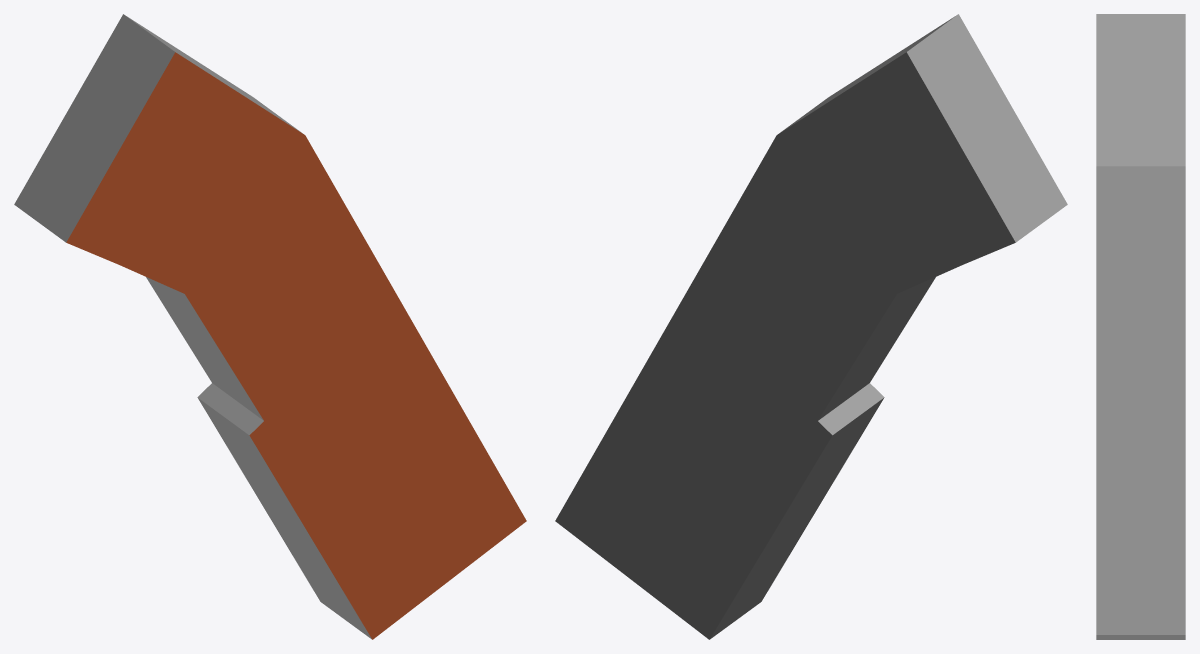
File: construction_6391_assumed_A_Casa_h6m.obj
3 views of the same model, side by side, from view 1: azimuth 30°, elevation 25°; view 2: azimuth 150°, elevation 25°; view 3: azimuth 270°, elevation 25° (orthographic). The views are drawn at different scales.
Visible parts, largest first — view 1: construction_6391_assumed_A_Casa; view 2: construction_6391_assumed_A_Casa; view 3: construction_6391_assumed_A_Casa.
Boxes of the visible parts, x1,y1,x2,y2 form: construction_6391_assumed_A_Casa: [14, 14, 526, 639]; construction_6391_assumed_A_Casa: [555, 14, 1067, 639]; construction_6391_assumed_A_Casa: [1096, 14, 1185, 639].
Size of the model in its own units: 30.64 by 40.42 by 6.
